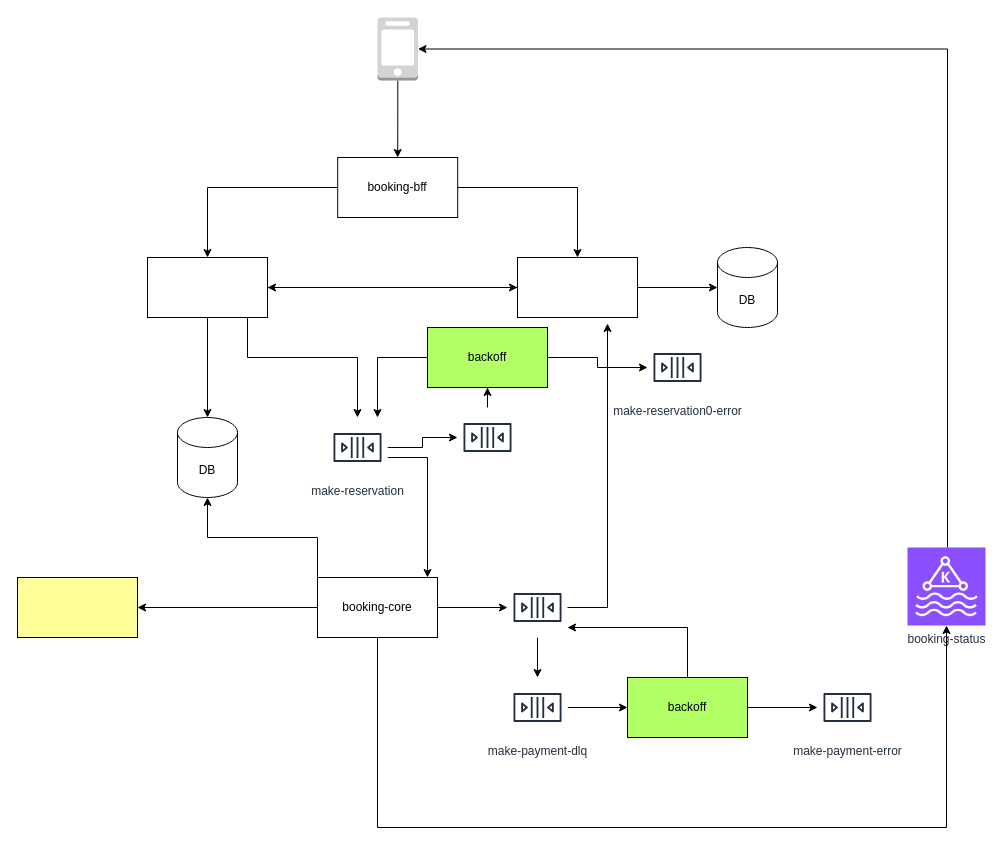
This 1003x853 diagram has some shape labels left out. The shapes that lost their labels are listed below. From the top down, each one's centre as x and y in pixels, then its label:
[207,287]: booking-api
[577,287]: payment-service
[487,437]: make-reservation-dlq
[77,607]: layer-payment
[537,607]: make-payment
